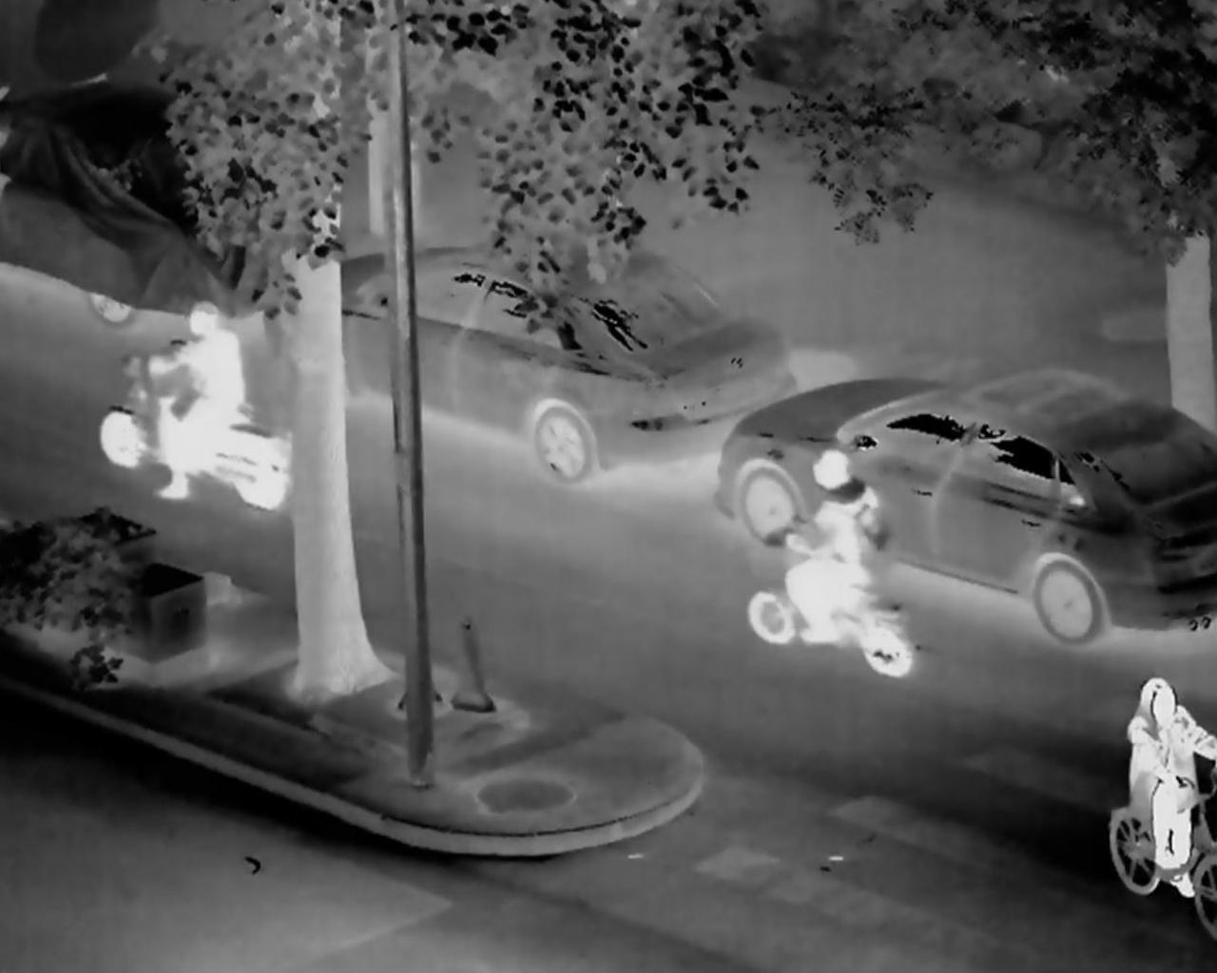person: (747, 427, 907, 693), (123, 297, 253, 527), (1104, 672, 1217, 913)
